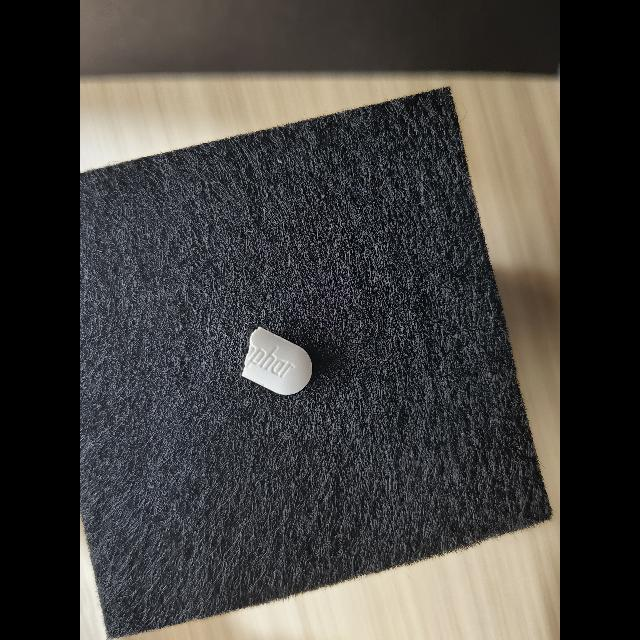Chipped Pill: (241, 327, 312, 395)
